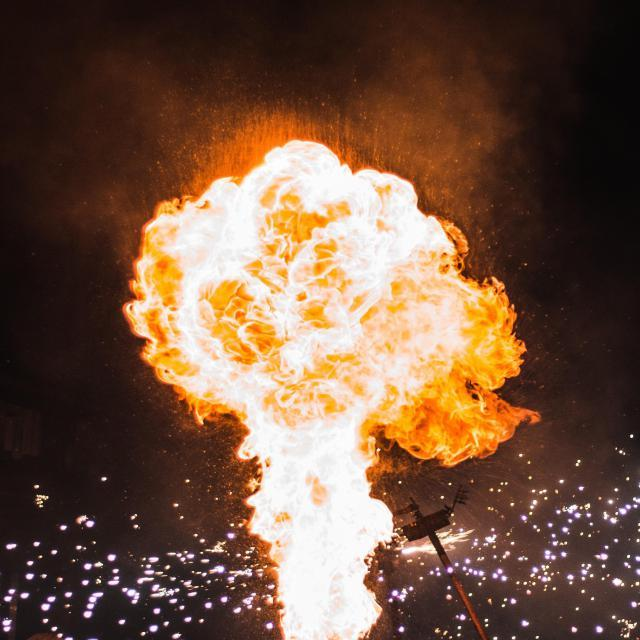Fire: (121, 132, 526, 639)
